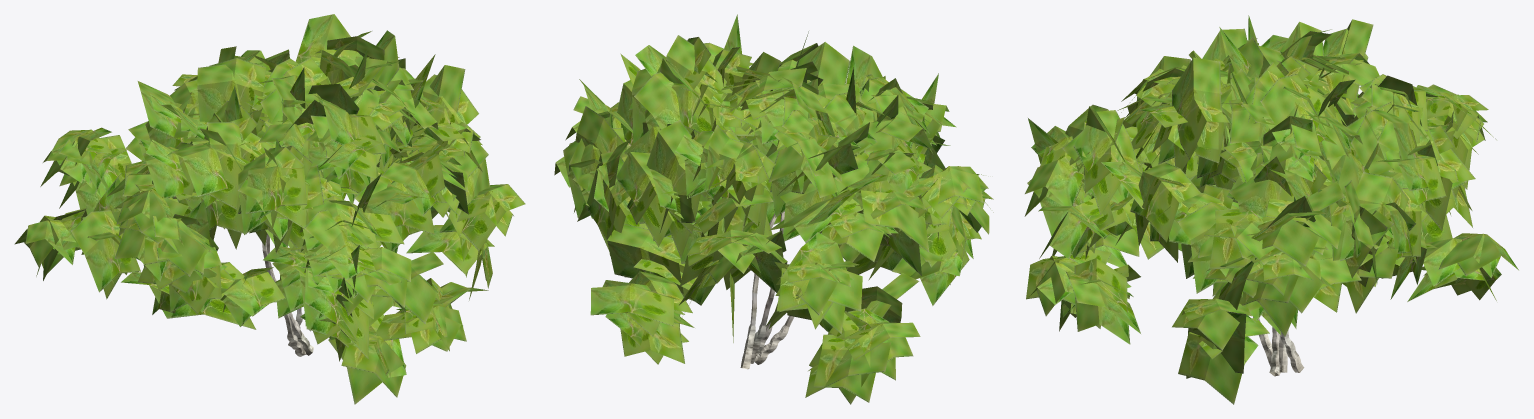
Rendered from bush_3_visual_low.obj.
3 renders of one model, left to right at view 1: azimuth 30°, elevation 25°; view 2: azimuth 150°, elevation 25°; view 3: azimuth 270°, elevation 25°, orthographic. The views are drawn at different scales.
Visible parts, largest first — view 1: Bush_1_4_visual_low; view 2: Bush_1_4_visual_low; view 3: Bush_1_4_visual_low.
Part boxes in pixels (x1,y1,x2,y2): Bush_1_4_visual_low: (14, 14, 525, 404); Bush_1_4_visual_low: (554, 14, 993, 404); Bush_1_4_visual_low: (1024, 15, 1518, 404).
Bounding box in the file's own units: 0.6485 × 0.484 × 0.6487.
Materials: 1 (1 with a texture image).
